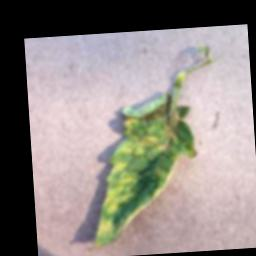Leaf_Mold: (86, 96, 201, 251)
